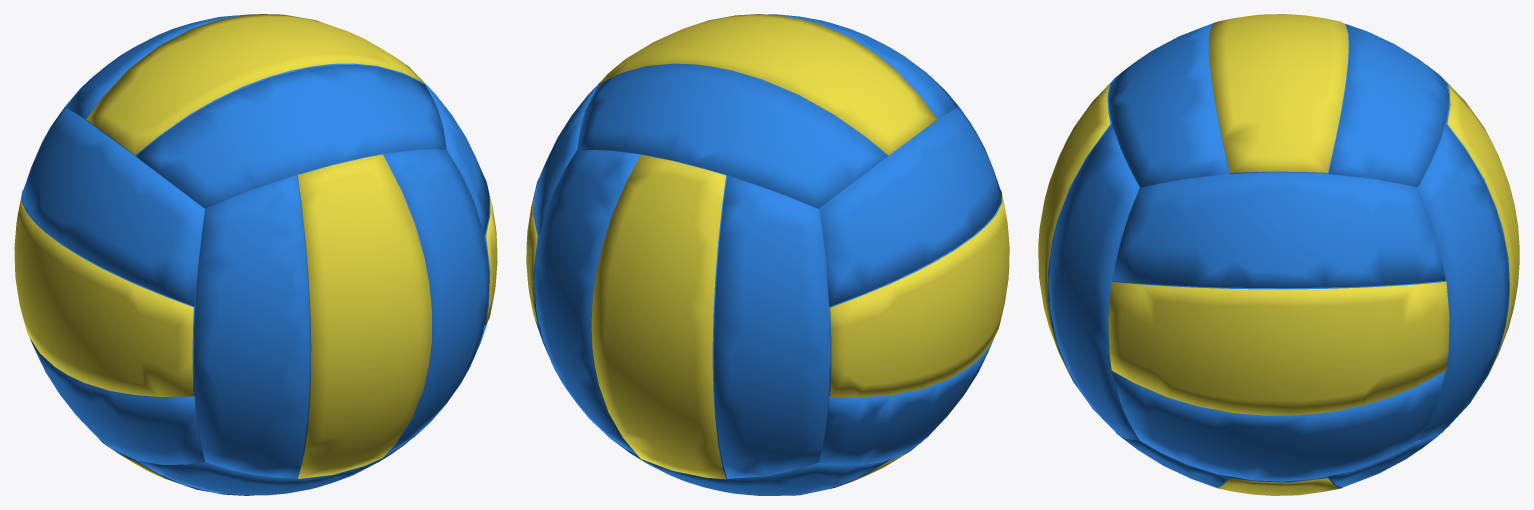
File: ball.glb
3 views of the same model, side by side, from view 1: azimuth 30°, elevation 25°; view 2: azimuth 150°, elevation 25°; view 3: azimuth 270°, elevation 25° (orthographic).
Visible parts, largest first — view 1: VolleyBall; view 2: VolleyBall; view 3: VolleyBall.
Part boxes in pixels (left/top/right/bottom): VolleyBall: left=14, top=14, right=497, bottom=495; VolleyBall: left=526, top=14, right=1009, bottom=495; VolleyBall: left=1038, top=14, right=1519, bottom=495.
Size of the model in its own units: 0.6497 by 0.6496 by 0.6496.
